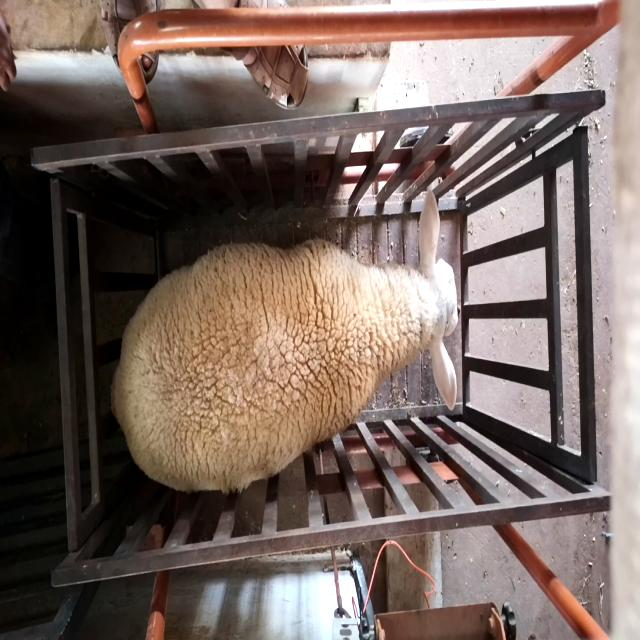sheep: (111, 187, 459, 492)
